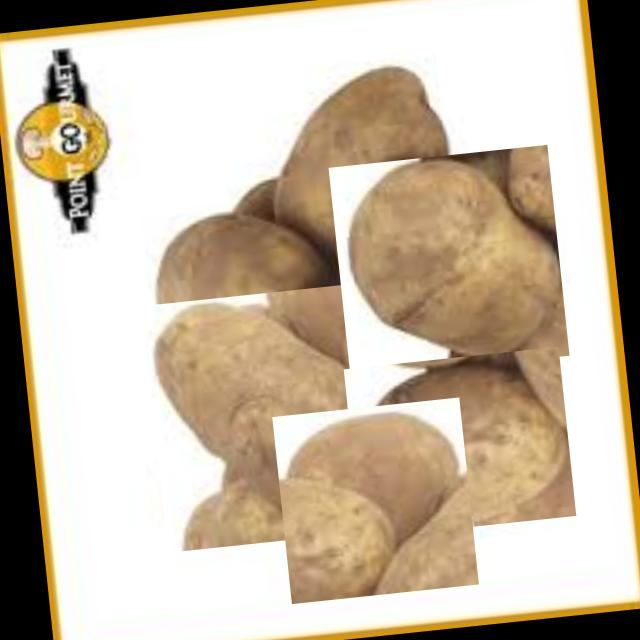Diseased-fungal potato: (141, 279, 412, 551), (328, 143, 569, 377), (343, 345, 576, 537), (272, 396, 478, 602), (141, 198, 344, 368)
